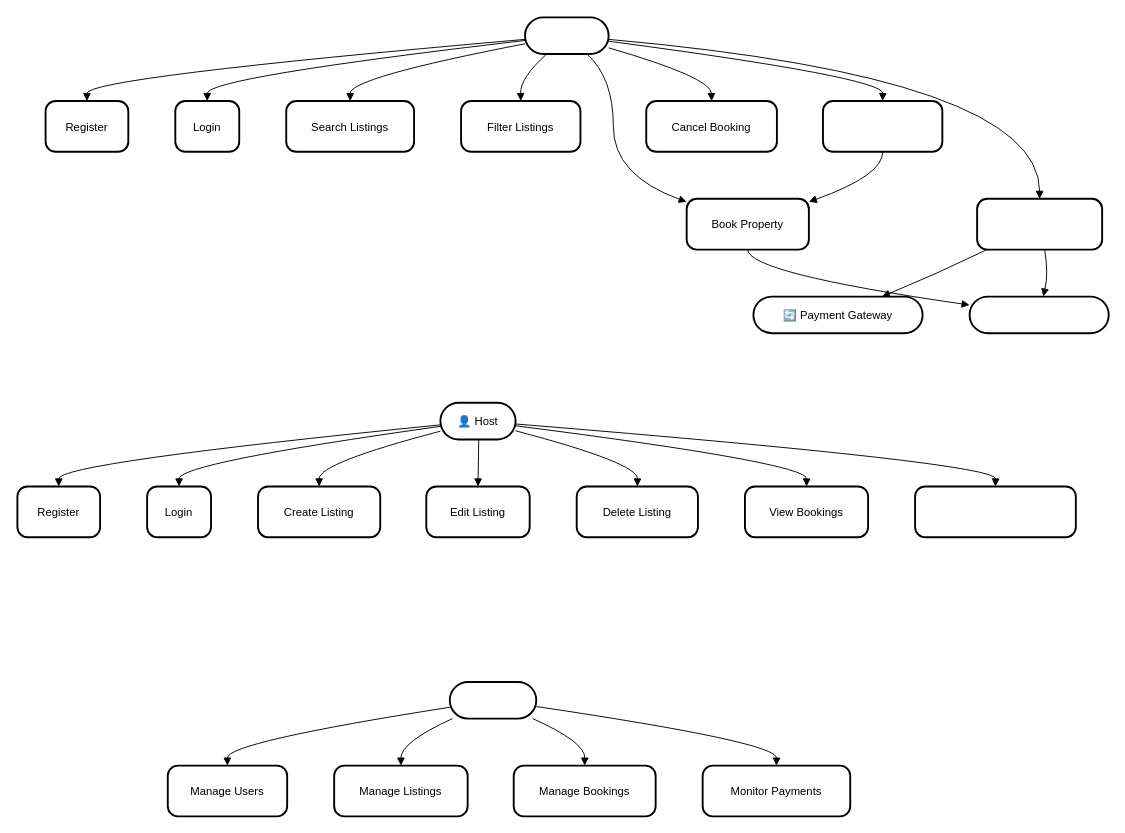
The diagram is 1125 pixels wide and 833 high, and some of its shapes have lost their labels. The shapes that lost their labels are listed below. From the top down, each one's box as (x1, y1, x2, y2) in pixels, then its label:
(524, 16, 609, 55): 👤 Guest
(822, 100, 943, 152): Leave Review
(976, 197, 1103, 250): Make Payment
(968, 295, 1109, 334): 📧 Email Service
(914, 485, 1076, 538): Respond to Reviews
(448, 681, 537, 719): 👤 Admin
